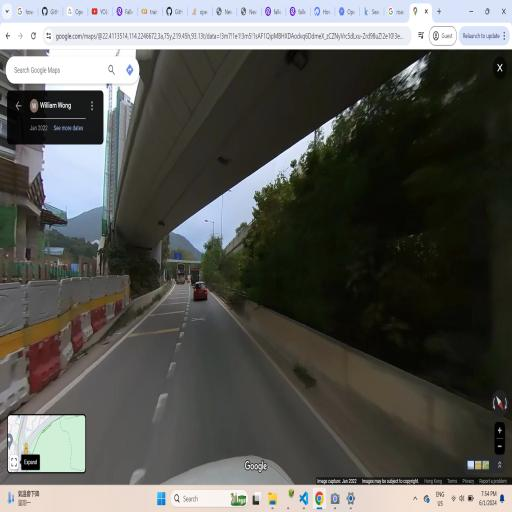Roads: (97, 282, 378, 470)
